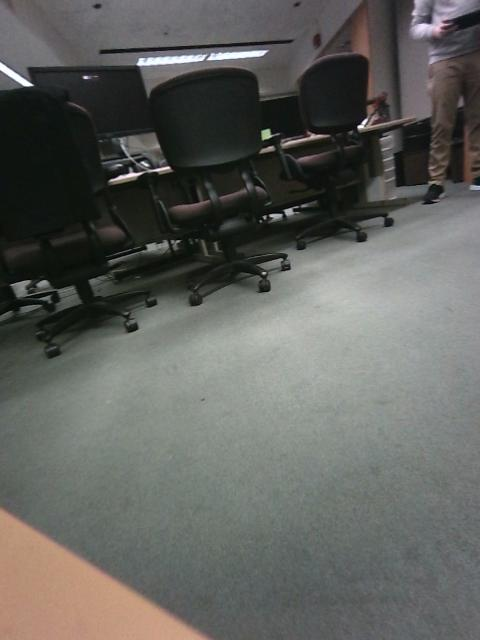block: (181, 300, 217, 328)
